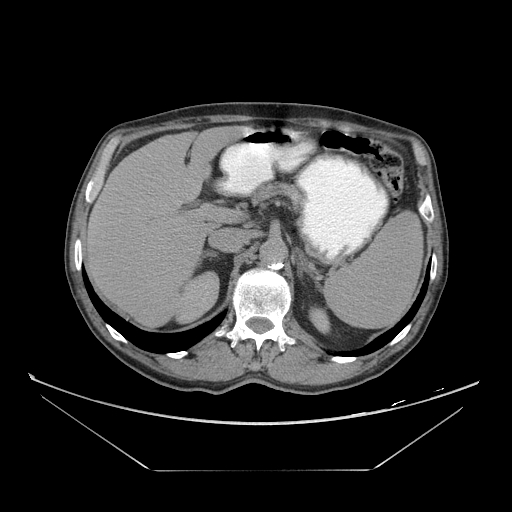left_kidney: (171, 267, 222, 325)
right_kidney: (307, 299, 334, 336)
